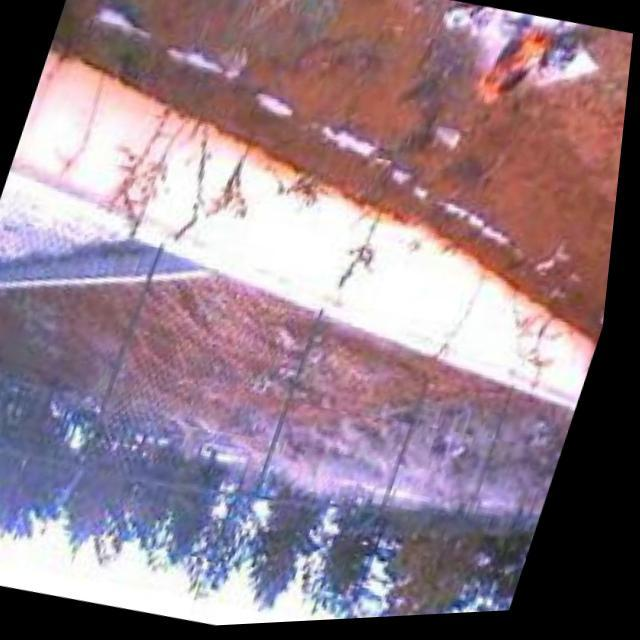fire: (470, 19, 584, 125)
